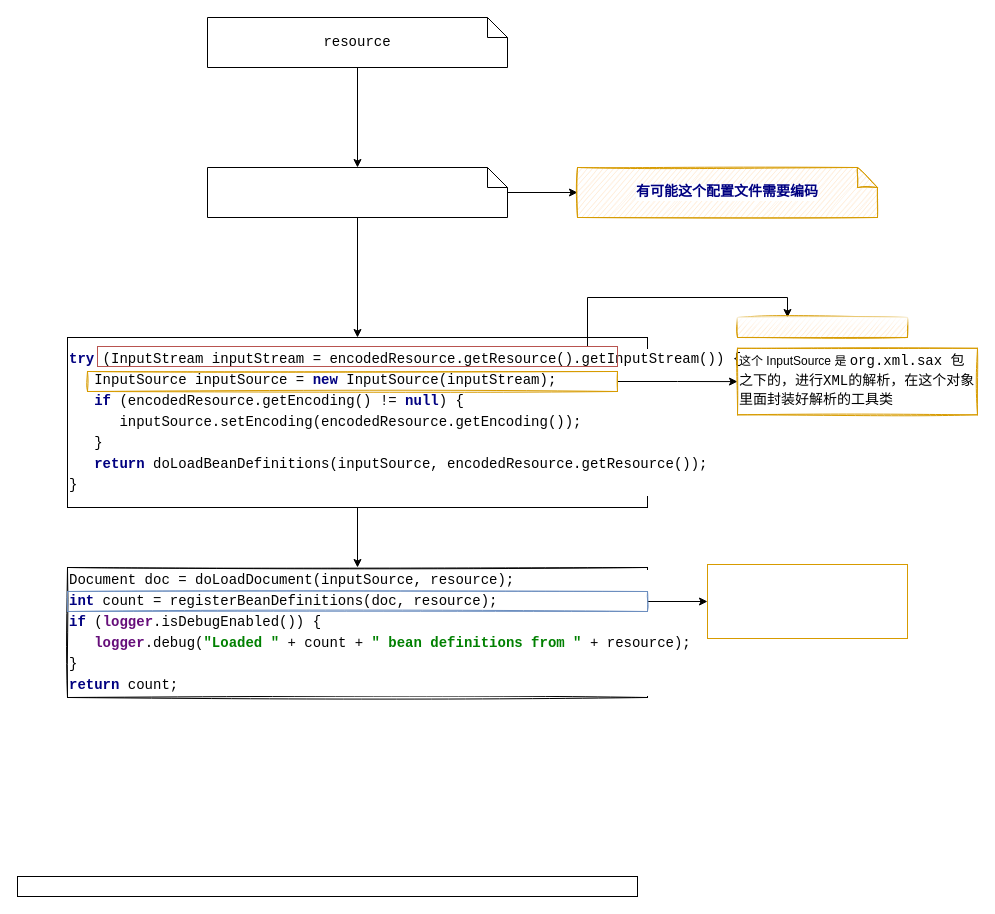
This 995x914 diagram has some shape labels left out. The shapes that lost their labels are listed below. From the top down, each one's box as (x1, y1, x2, y2) in pixels, then its label:
(206, 166, 508, 218): new EncodedResource(resource)
(736, 316, 908, 338): 获取配置文件输入流
(706, 564, 908, 638): 拿到了 Document 对象，之后在这个方法之中，进行了BeanDefinition 对象的解析
